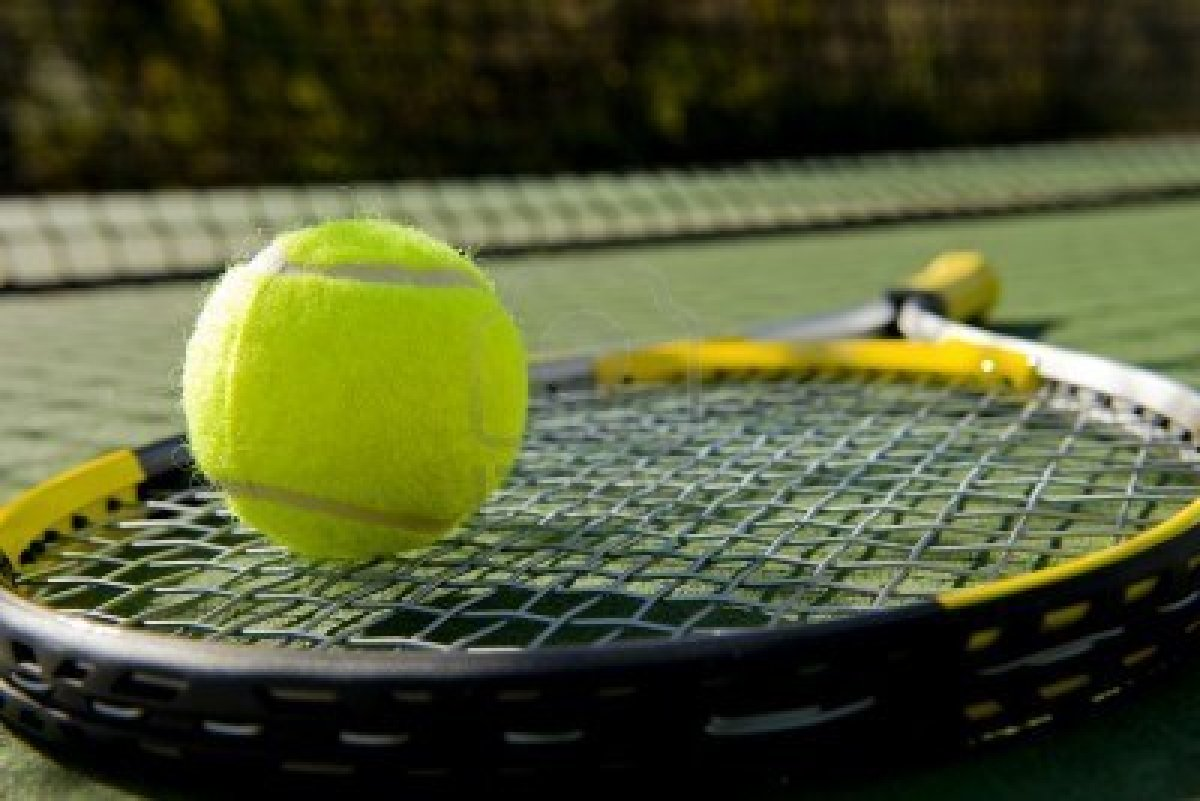aim: (181, 215, 531, 558)
